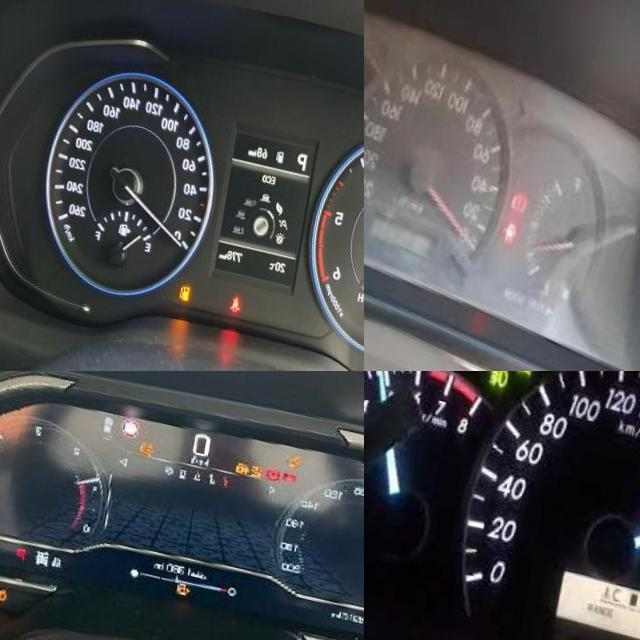Low fuel level: (194, 272, 206, 289), (190, 566, 201, 579)
